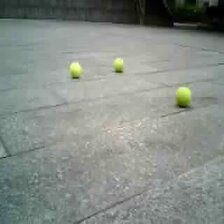tennis: (175, 87, 190, 106), (69, 61, 82, 77), (114, 57, 124, 72)
